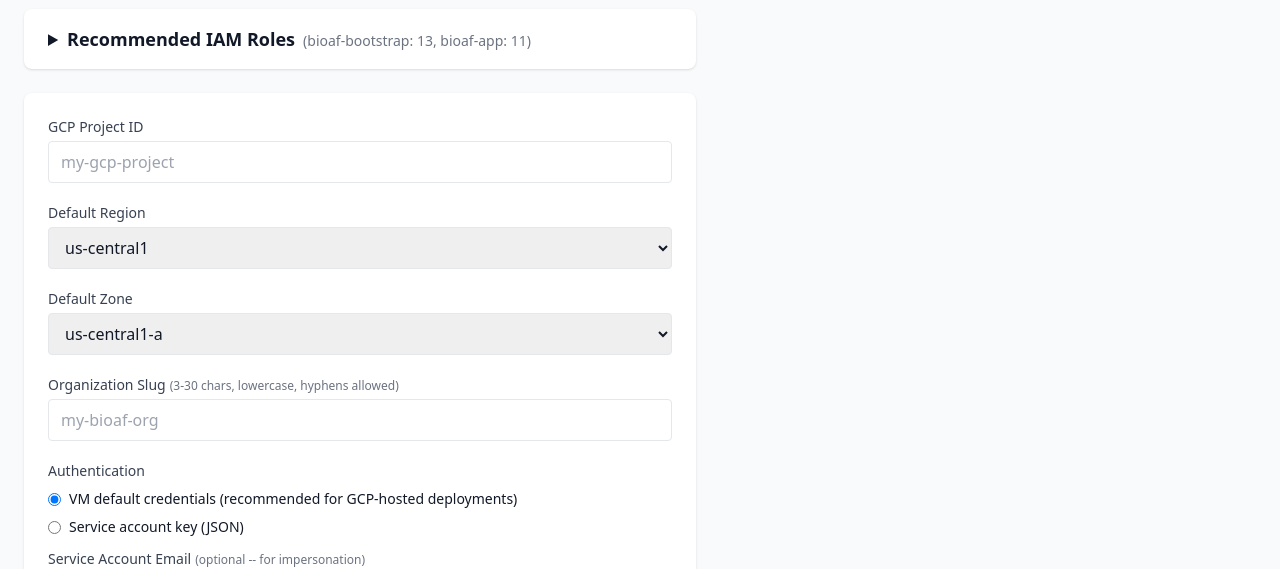
Test: GCP Settings Page › shows validation error for invalid org slug
The width and height of the screenshot is (1280, 569).
Type "-bad-slug-" into the field with test id "org-slug-input" at (360, 420), box [48, 399, 672, 441]
(page scrolled)
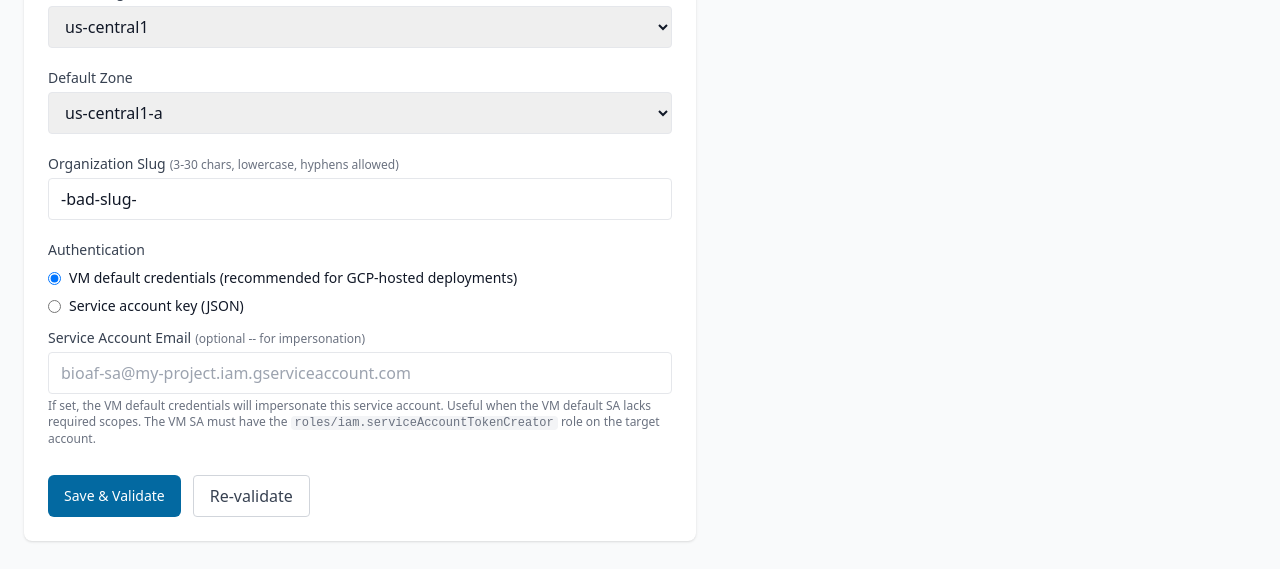
Click the button with test id "save-gcp-config-btn" at (114, 496), box [48, 475, 181, 517]
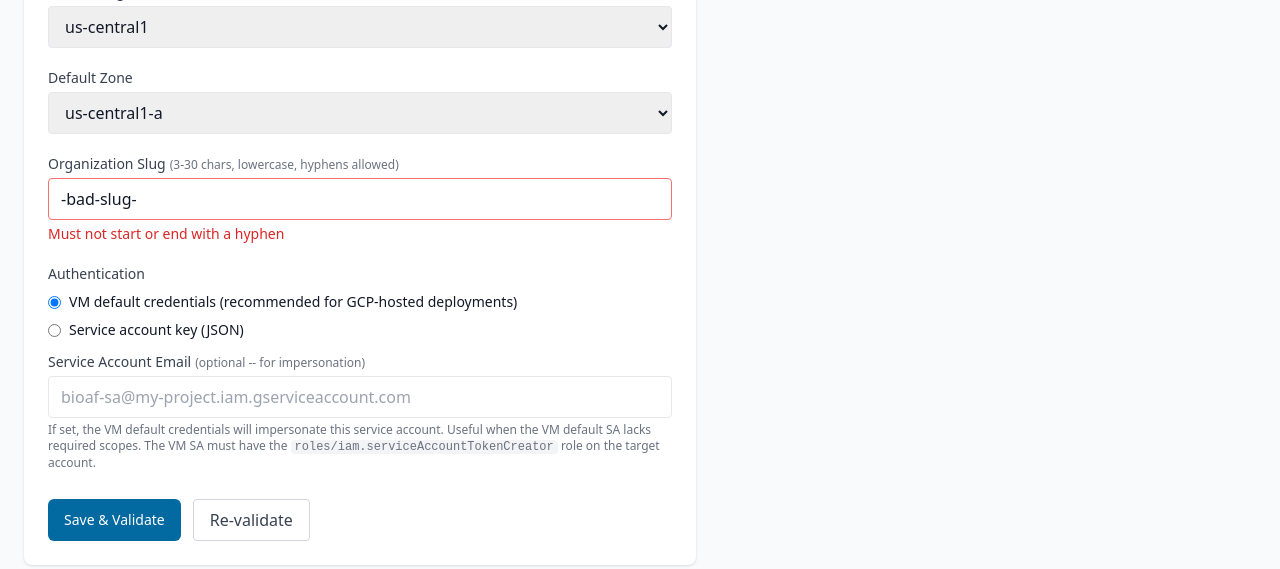
Check: the text "Must not start or end with a hyphen" is shown, box [48, 224, 284, 243]
